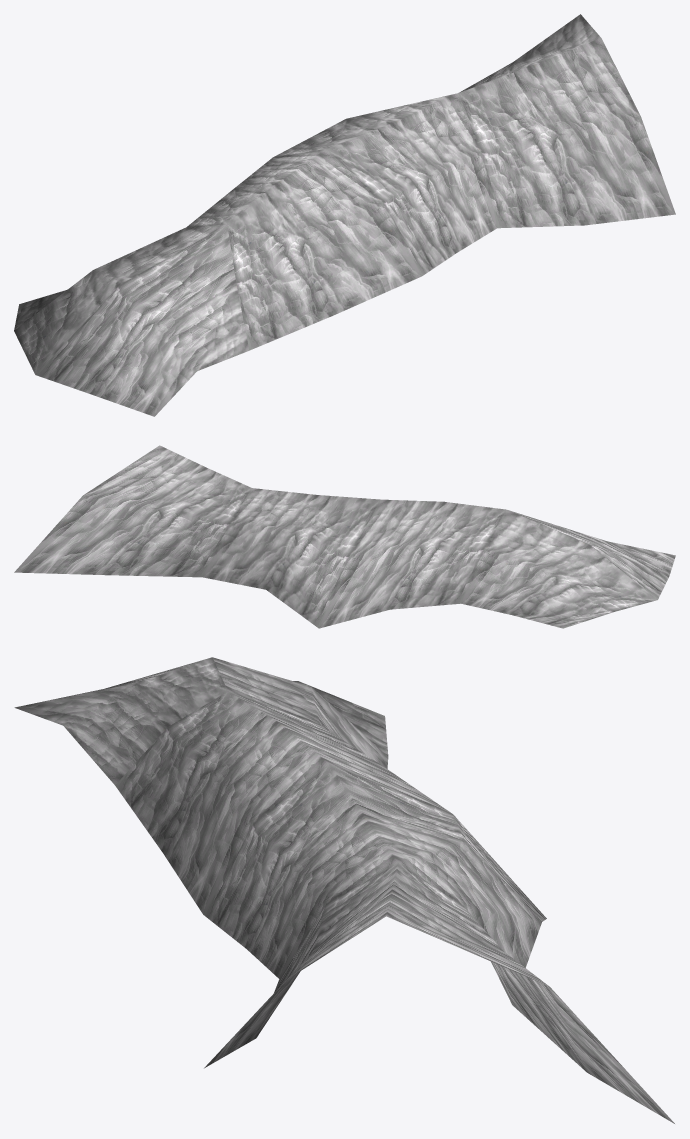
Rendered from SWORDLIGHT20_PS-AREA03_45.fbx.
3 renders of one model, top to bottom at view 1: azimuth 30°, elevation 25°; view 2: azimuth 150°, elevation 25°; view 3: azimuth 270°, elevation 25°, orthographic. The views are drawn at different scales.
Parts seen in each view (by area): view 1: SWORDLIGHT20_PS-AREA03_45; view 2: SWORDLIGHT20_PS-AREA03_45; view 3: SWORDLIGHT20_PS-AREA03_45.
Boxes of the visible parts, box(x1,y1,x2,y2) form: SWORDLIGHT20_PS-AREA03_45: box(14, 14, 675, 416); SWORDLIGHT20_PS-AREA03_45: box(14, 445, 675, 628); SWORDLIGHT20_PS-AREA03_45: box(14, 657, 674, 1123).
Size of the model in its own units: 314656 by 59445 by 196818.
1 material, 1 textured.
